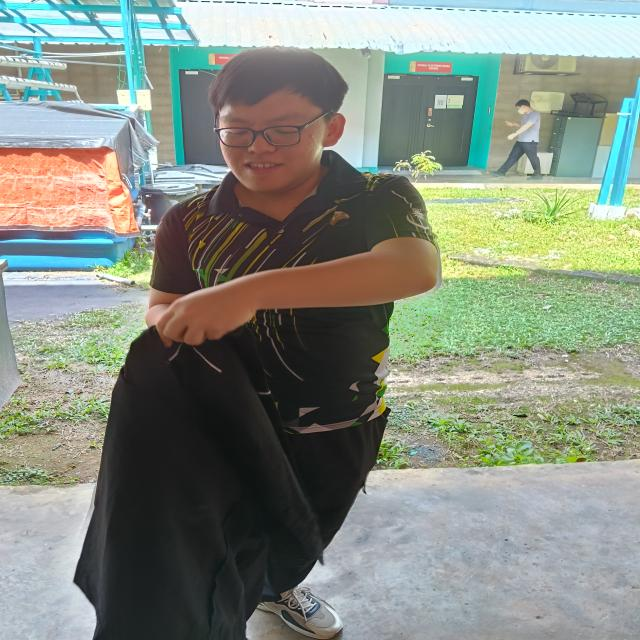person_without_labcoat: (74, 47, 440, 640)
